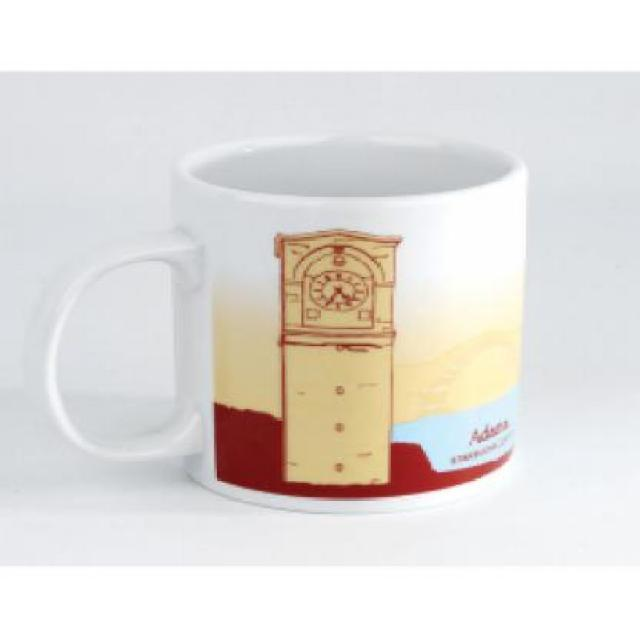taza: (39, 115, 534, 525)
